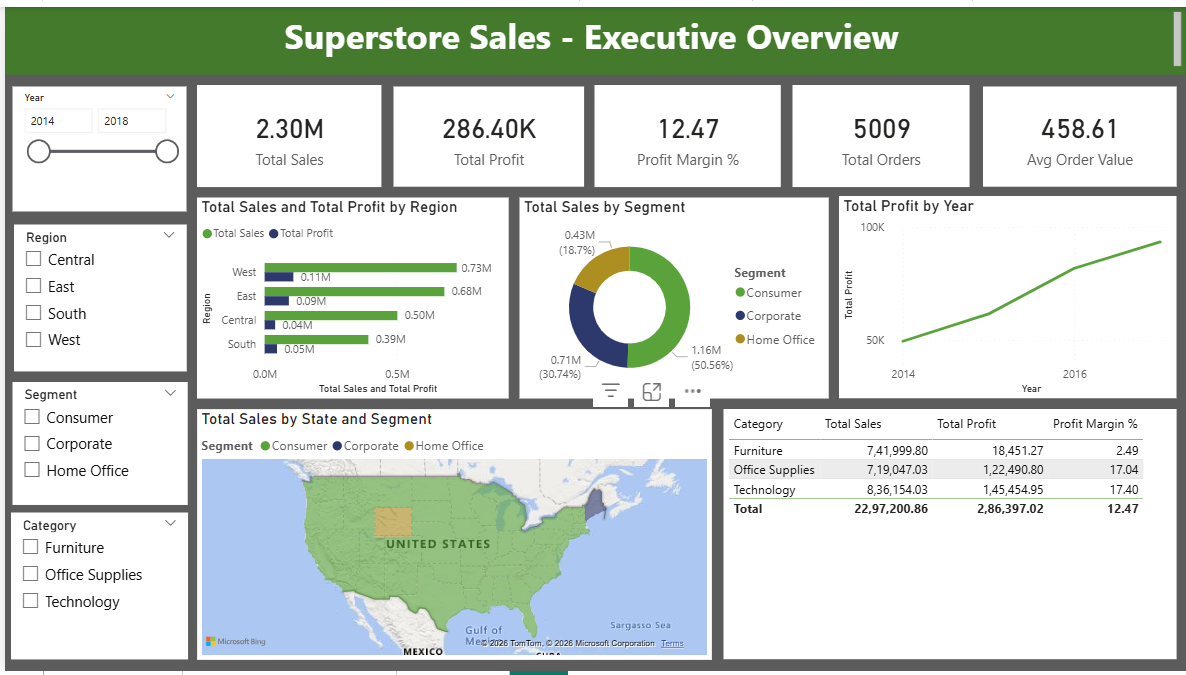

Layout of this report page (visuals, bound fields, positions):
{"tool":"powerbi","page":{"name":"Summary","canvas":[1280,720],"ordinal":0},"visuals":[{"type":"textbox","box":[0,0,1280.1,73.2],"z":0},{"type":"card","fields":{"Values":["superstore_sales.Total Sales"]},"box":[208.2,84.6,200.1,110.6],"z":0,"group":"g1"},{"type":"slicer","fields":{"Values":["DateTable.Year"]},"box":[7.7,87,188.7,135],"z":0,"group":"g2"},{"type":"card","fields":{"Values":["superstore_sales.Profit Margin %"]},"box":[639.2,84.6,201.7,110.6],"z":1000,"group":"g1"},{"type":"clusteredBarChart","fields":{"Category":["superstore_sales.Region"],"Y":["superstore_sales.Total Sales","superstore_sales.Total Profit"]},"box":[208.2,206.6,338.3,218],"z":1000},{"type":"slicer","fields":{"Values":["superstore_sales.Region"]},"box":[8.7,236.7,187.1,159.4],"z":1000,"group":"g2"},{"type":"card","fields":{"Values":["superstore_sales.Total Profit"]},"box":[421,86.9,206.6,109],"z":2000,"group":"g1"},{"type":"slicer","fields":{"Values":["superstore_sales.Segment"]},"box":[7.3,407.5,190.3,133.4],"z":2000,"group":"g2"},{"type":"slicer","fields":{"Values":["superstore_sales.Segment"]},"box":[361.1,540,185.4,126.9],"z":2000},{"type":"card","fields":{"Values":["superstore_sales.Total Orders"]},"box":[853.9,84.6,191.9,110.6],"z":3000,"group":"g1"},{"type":"donutChart","fields":{"Category":["superstore_sales.Segment"],"Y":["superstore_sales.Total Sales"]},"box":[557.9,206.6,335.1,218],"z":3000},{"type":"slicer","fields":{"Values":["superstore_sales.Category"]},"box":[5.9,549,191.9,159.4],"z":3000,"group":"g2"},{"type":"group","id":"g1","title":"Group 1","box":[208.2,84.6,1061.8,111.3],"z":4000},{"type":"card","fields":{"Values":["superstore_sales.Avg Order Value"]},"box":[1060.2,86.9,209.8,109],"z":4000,"group":"g1"},{"type":"lineChart","fields":{"Y":["superstore_sales.Total Profit"],"Category":["DateTable.Year"]},"box":[904.4,204.9,366,219.6],"z":5000},{"type":"group","id":"g2","title":"Group 4","box":[5.9,87,191.9,621.4],"z":6000},{"type":"filledMap","fields":{"Category":["superstore_sales.State"],"Series":["superstore_sales.Segment"]},"box":[208.2,435.9,557.9,271.6],"z":7000},{"type":"tableEx","fields":{"Values":["superstore_sales.Category","superstore_sales.Total Sales","superstore_sales.Total Profit","superstore_sales.Profit Margin %"]},"box":[779.1,435.9,491.2,271.6],"z":8000}]}

Visuals, with their boxes in screenshot pixels (x1, y1, x2, y2), scaled from the page's 1280x720 canvas onto the 1186x675 screenshot:
textbox: (left=0, top=0, right=1185, bottom=69)
card - superstore_sales.Total Sales: (left=193, top=79, right=378, bottom=183)
slicer - DateTable.Year: (left=7, top=82, right=182, bottom=208)
card - superstore_sales.Profit Margin %: (left=592, top=79, right=779, bottom=183)
clusteredBarChart - superstore_sales.Region x superstore_sales.Total Sales: (left=193, top=194, right=506, bottom=398)
slicer - superstore_sales.Region: (left=8, top=222, right=181, bottom=371)
card - superstore_sales.Total Profit: (left=390, top=81, right=582, bottom=184)
slicer - superstore_sales.Segment: (left=7, top=382, right=183, bottom=507)
slicer - superstore_sales.Segment: (left=335, top=506, right=506, bottom=625)
card - superstore_sales.Total Orders: (left=791, top=79, right=969, bottom=183)
donutChart - superstore_sales.Segment x superstore_sales.Total Sales: (left=517, top=194, right=827, bottom=398)
slicer - superstore_sales.Category: (left=5, top=515, right=183, bottom=664)
"Group 1" group: (left=193, top=79, right=1177, bottom=184)
card - superstore_sales.Avg Order Value: (left=982, top=81, right=1177, bottom=184)
lineChart - superstore_sales.Total Profit x DateTable.Year: (left=838, top=192, right=1177, bottom=398)
"Group 4" group: (left=5, top=82, right=183, bottom=664)
filledMap - superstore_sales.State x superstore_sales.Segment: (left=193, top=409, right=710, bottom=663)
tableEx - superstore_sales.Category x superstore_sales.Total Sales: (left=722, top=409, right=1177, bottom=663)
